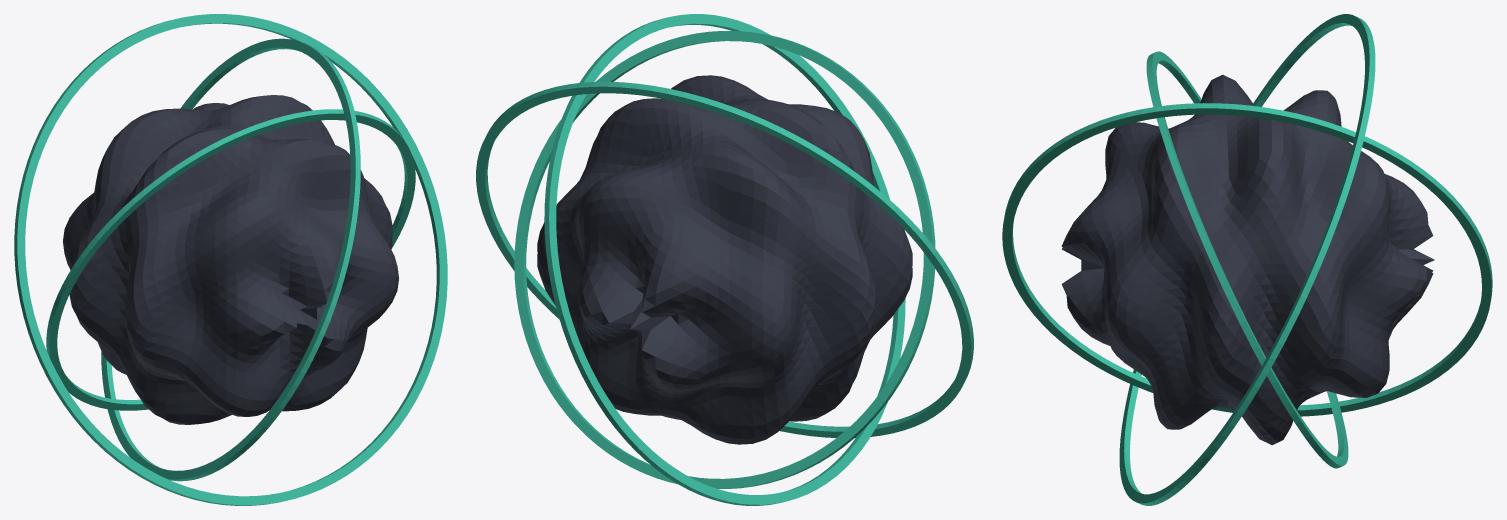
File: gpu-artifact.glb
3 renders of one model, left to right at view 1: azimuth 30°, elevation 25°; view 2: azimuth 150°, elevation 25°; view 3: azimuth 270°, elevation 25°, orthographic. The views are drawn at different scales.
Parts seen in each view (by area): view 1: jwt-inspector-guard_obsidian_core, jwt-inspector-guard_orbital_ring_2, jwt-inspector-guard_orbital_ring_1, jwt-inspector-guard_orbital_ring_0; view 2: jwt-inspector-guard_obsidian_core, jwt-inspector-guard_orbital_ring_0, jwt-inspector-guard_orbital_ring_1, jwt-inspector-guard_orbital_ring_2; view 3: jwt-inspector-guard_obsidian_core, jwt-inspector-guard_orbital_ring_1, jwt-inspector-guard_orbital_ring_2, jwt-inspector-guard_orbital_ring_0.
Part boxes in pixels (<box>): jwt-inspector-guard_obsidian_core: <box>63,95,398,424</box>; jwt-inspector-guard_orbital_ring_2: <box>14,14,447,505</box>; jwt-inspector-guard_orbital_ring_1: <box>101,38,360,481</box>; jwt-inspector-guard_orbital_ring_0: <box>46,109,415,410</box>; jwt-inspector-guard_obsidian_core: <box>537,75,912,444</box>; jwt-inspector-guard_orbital_ring_0: <box>514,31,935,488</box>; jwt-inspector-guard_orbital_ring_1: <box>544,14,905,505</box>; jwt-inspector-guard_orbital_ring_2: <box>476,81,973,437</box>; jwt-inspector-guard_obsidian_core: <box>1061,75,1434,444</box>; jwt-inspector-guard_orbital_ring_1: <box>1002,103,1492,416</box>; jwt-inspector-guard_orbital_ring_2: <box>1119,14,1375,505</box>; jwt-inspector-guard_orbital_ring_0: <box>1146,51,1348,468</box>.
Bounding box in the file's own units: 3.24 × 2.89 × 2.98.
